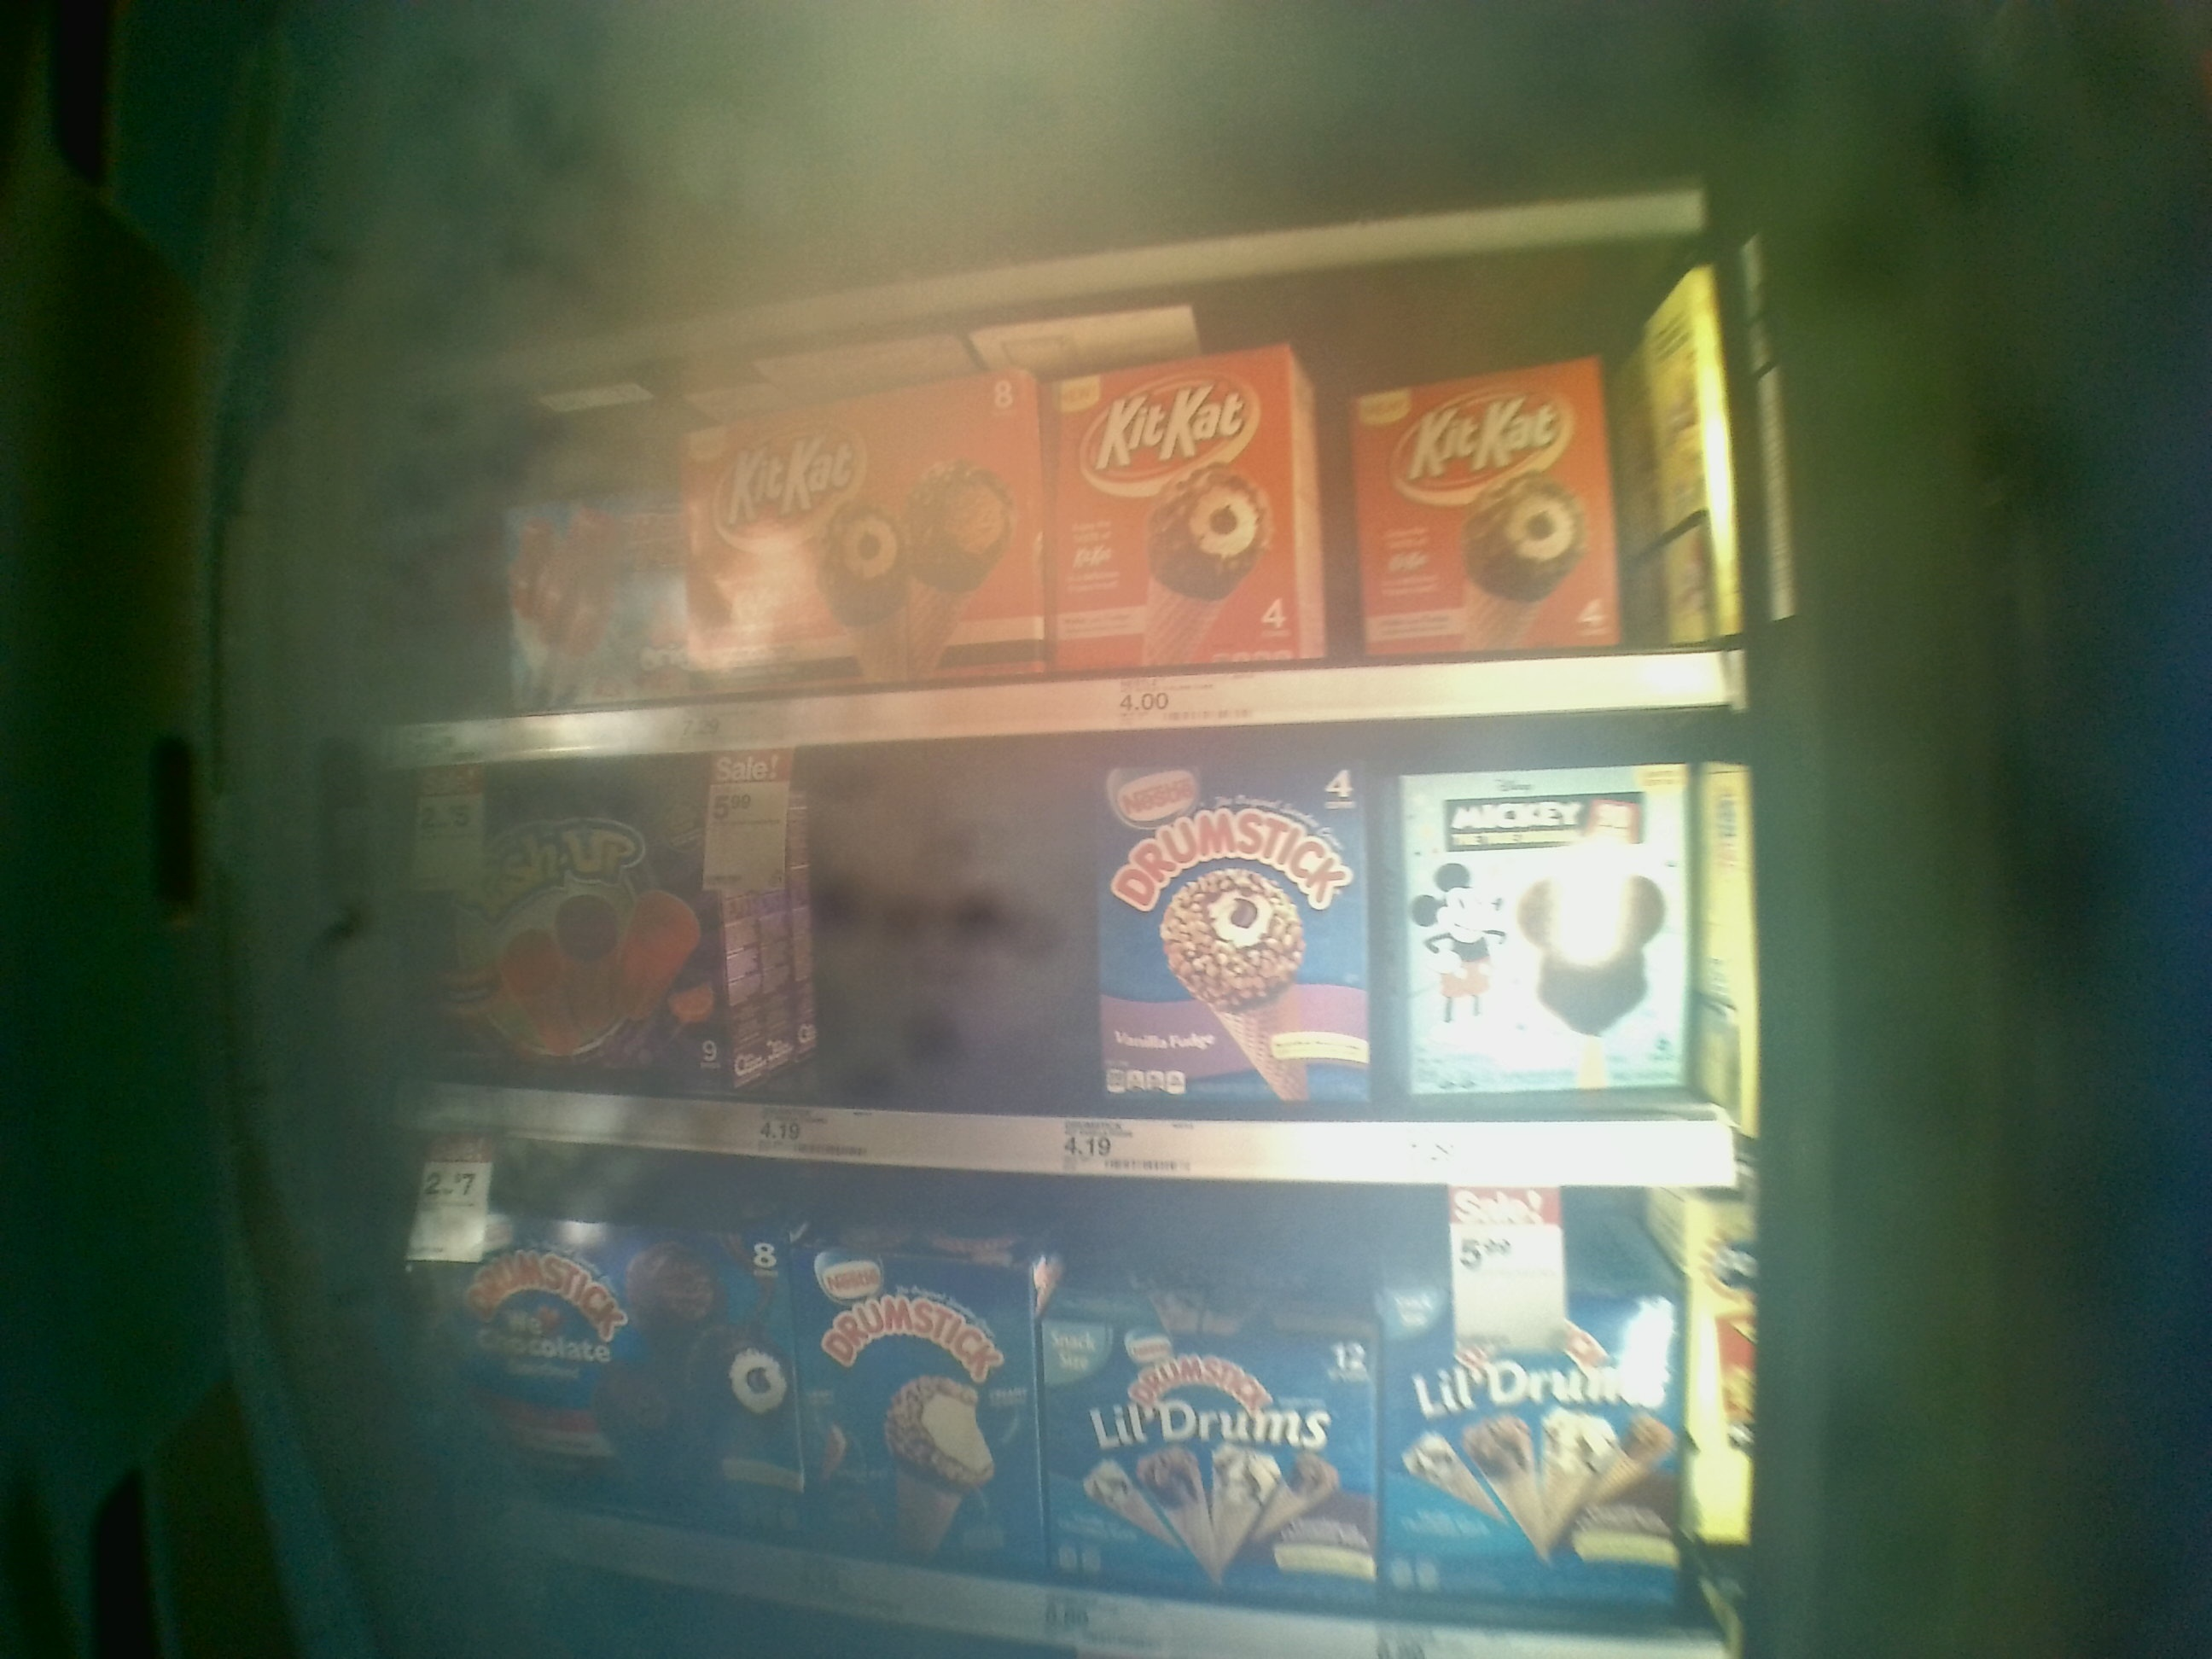shelf: (366, 249, 1766, 751), (366, 708, 1757, 1190)
